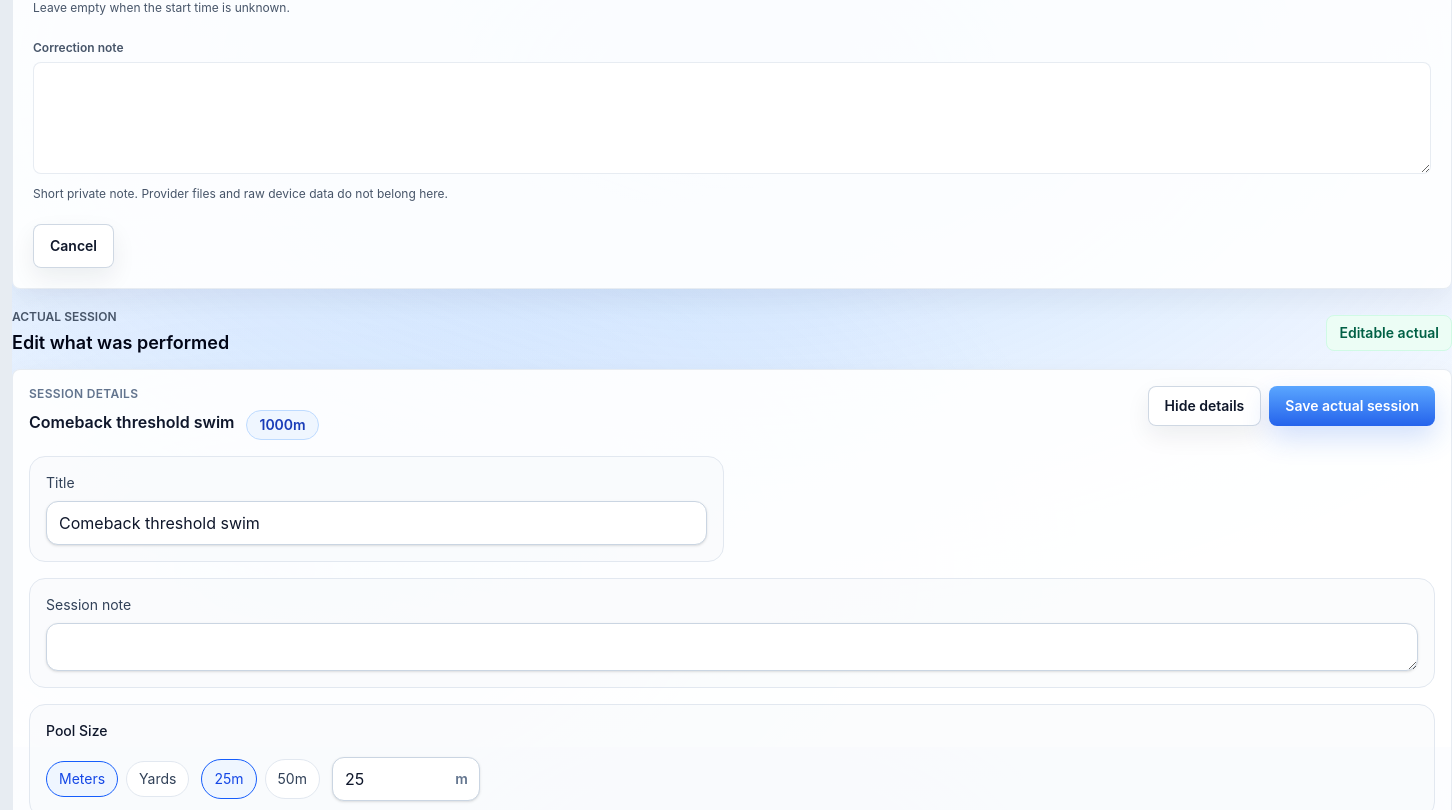
Test case: ReviewActualEditor › surfaces stale-write errors without losing the editor
(page scrolled)
Click the button "Save actual session": [1352, 406] box x1=1269 y1=386 x2=1435 y2=426
(page scrolled)
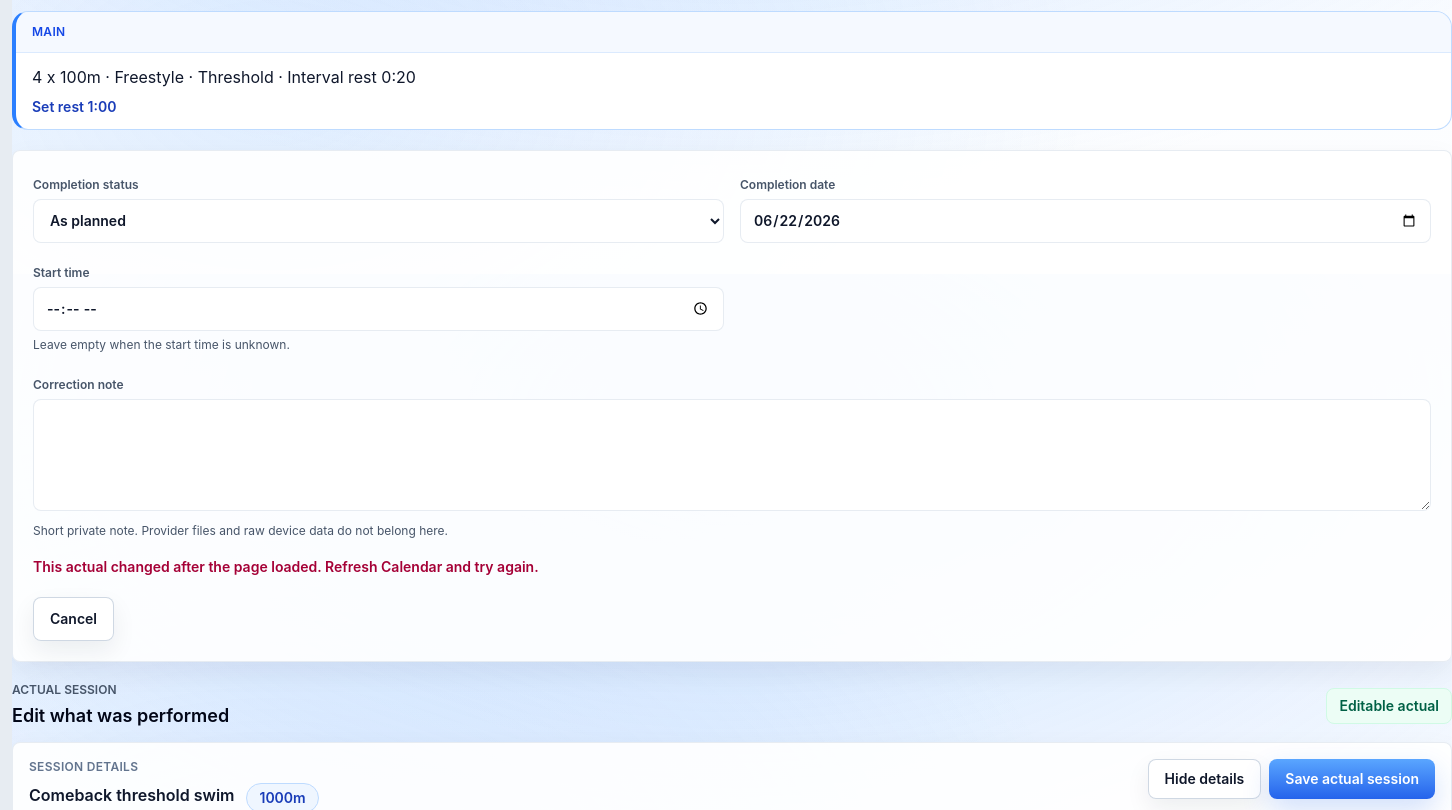
Expected: the text "This actual changed after the page loaded. Refresh Calendar and try again." is shown, x1=33 y1=558 x2=539 y2=574
